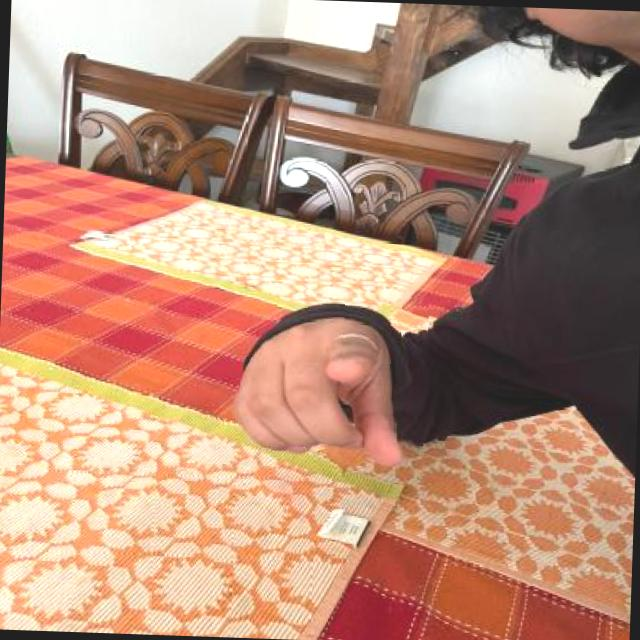X: (237, 288, 429, 484)
